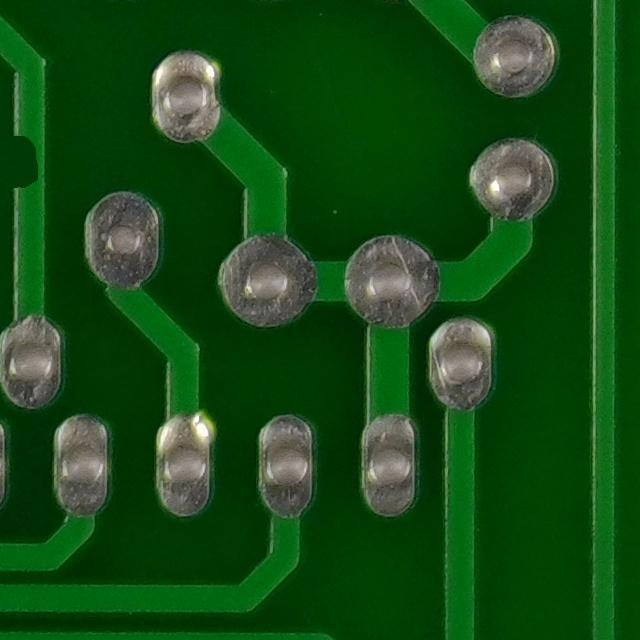mouse_bite: (0, 120, 60, 205)
